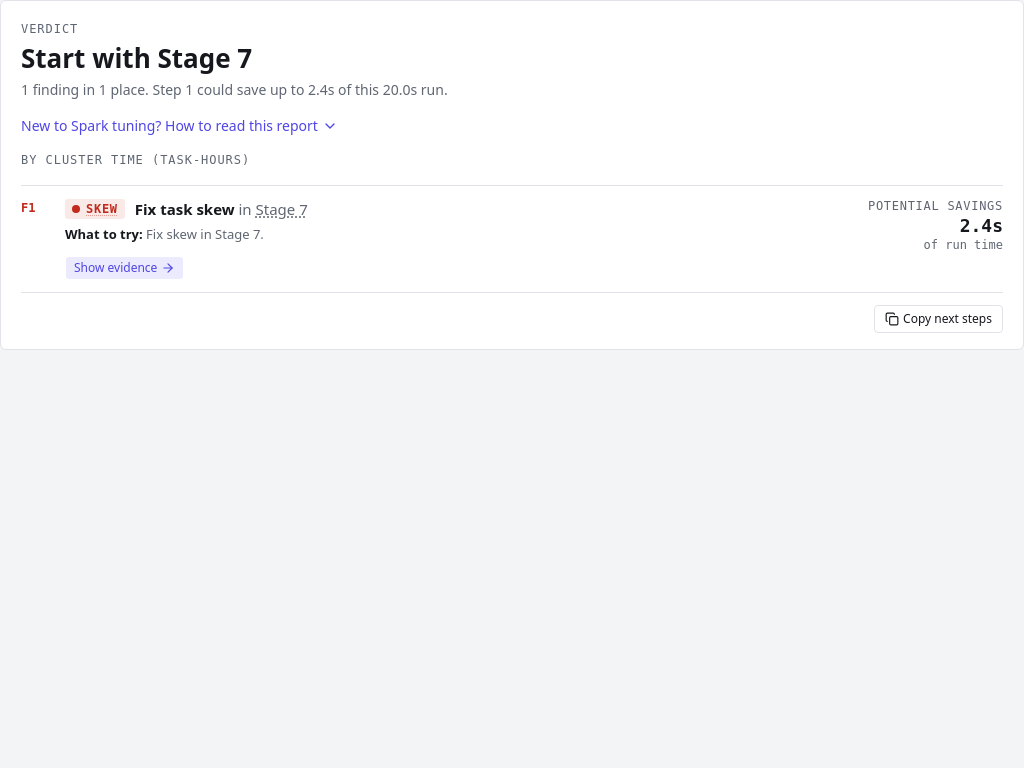
Test: RunVerdict › offers a collapsed newcomer primer in Basic view only
Click the button "New to Spark tuning? How to read this report": (179, 126) 21,116 -> 338,136
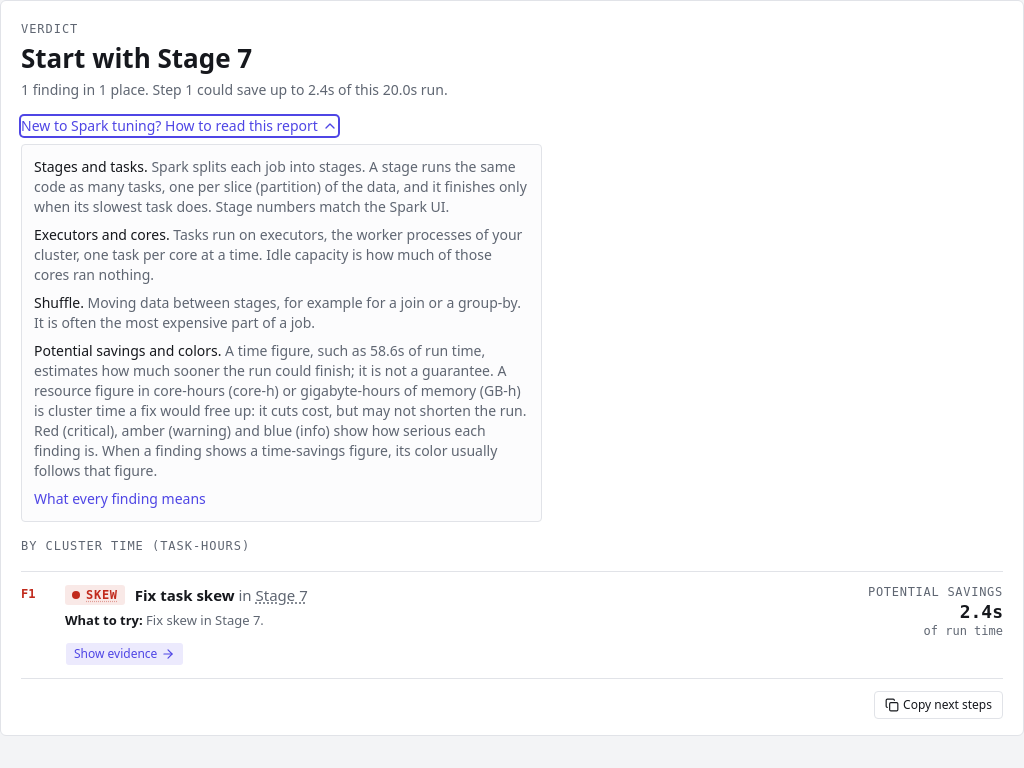
Expected: the text "Spark splits each job into stages" is shown, 34,157 -> 527,216
